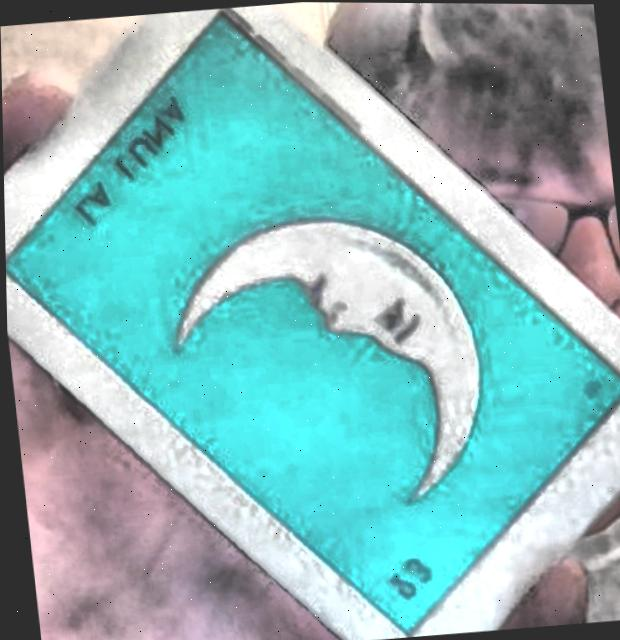La Luna: (5, 15, 620, 633)
